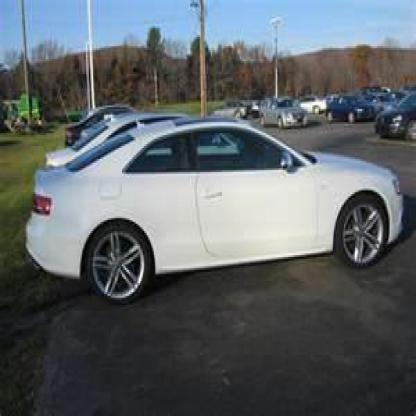Vehicle: (22, 111, 409, 307)
